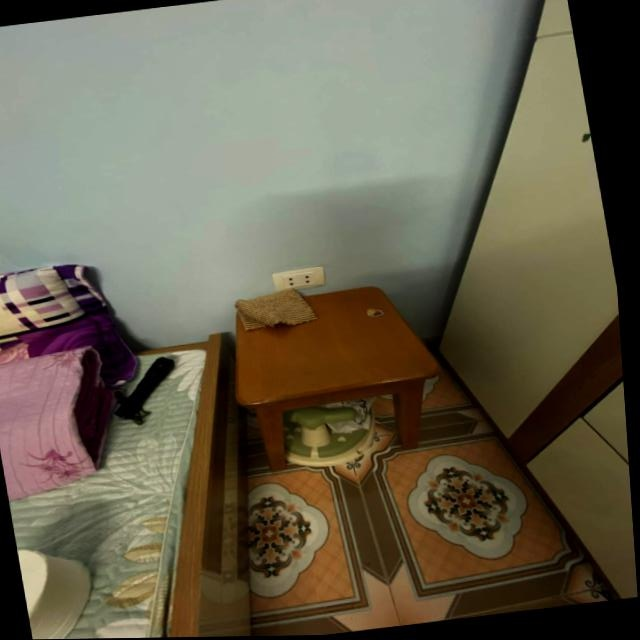outlet: (271, 267, 326, 293)
